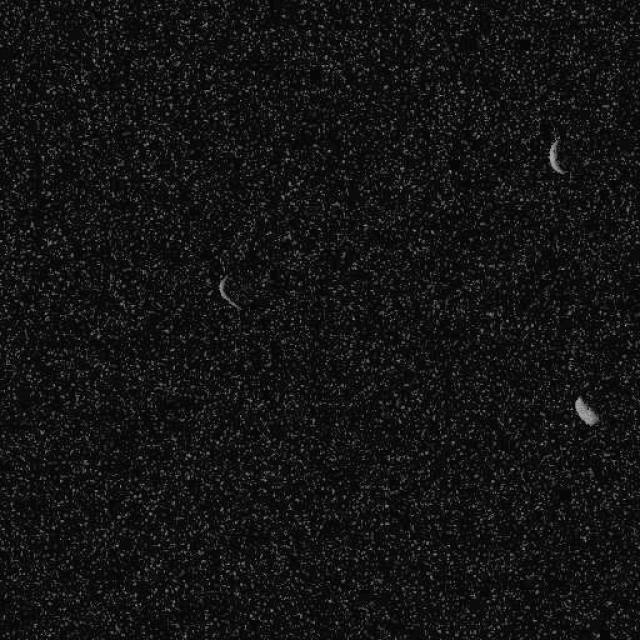D2: (216, 272, 242, 312), (546, 135, 569, 175), (572, 395, 600, 426)
